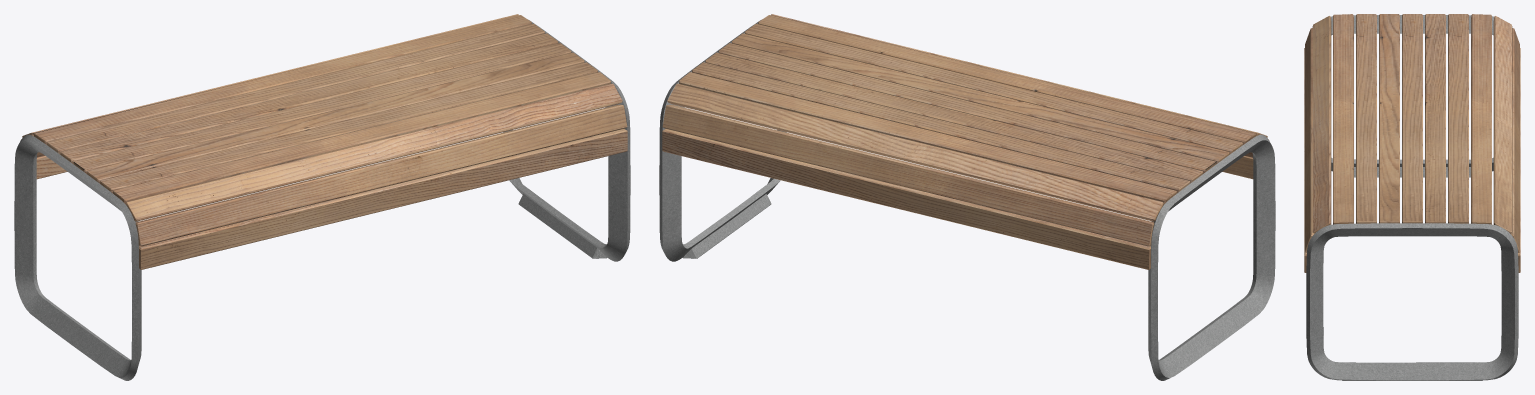
The model's file is Modern Bench 1.fbx.
The picture shows the model from 3 angles, left to right: view 1: azimuth 30°, elevation 25°; view 2: azimuth 150°, elevation 25°; view 3: azimuth 270°, elevation 25°; orthographic projection. The views are drawn at different scales.
Visible parts, largest first — view 1: Modern Bench 1; view 2: Modern Bench 1; view 3: Modern Bench 1.
Part boxes in pixels (bbox=[...]): Modern Bench 1: bbox=[14, 14, 630, 380]; Modern Bench 1: bbox=[659, 14, 1275, 380]; Modern Bench 1: bbox=[1304, 14, 1520, 380].
Size of the model in its own units: 130 by 45.42 by 55.87.
2 materials, 2 textured.
